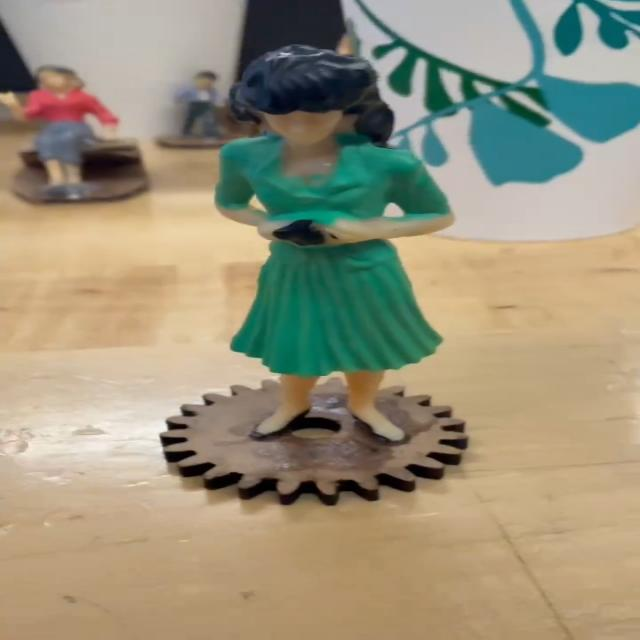Authorized: (146, 39, 468, 448)
